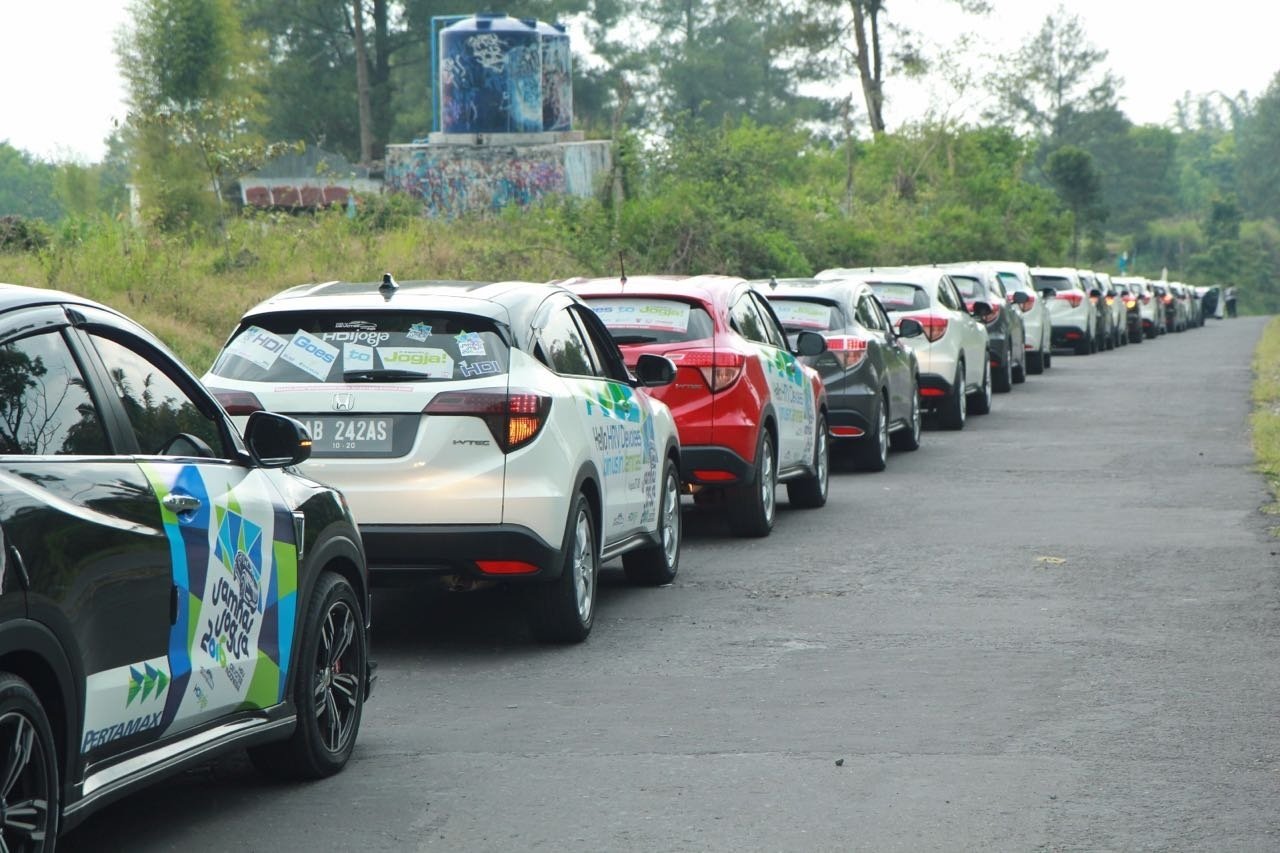plate: (294, 417, 391, 453)
